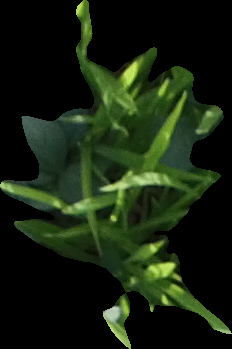grass: (1, 1, 230, 348)
